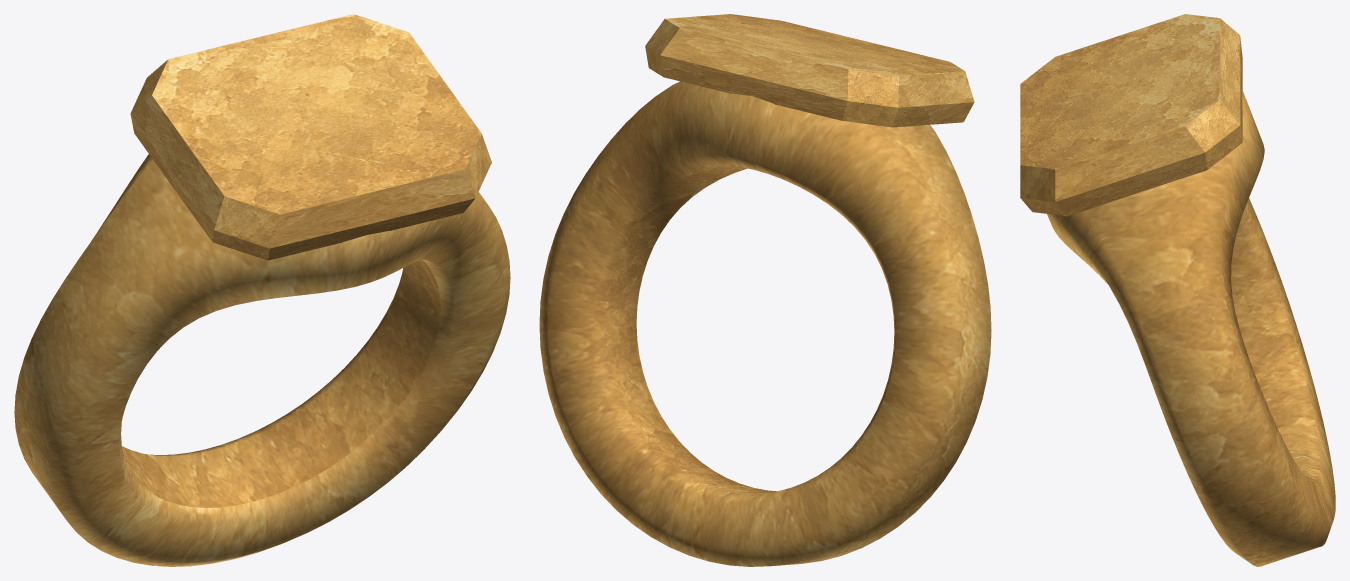
Rendered from untarnished_signet.obj.
3 views of the same model, side by side, from view 1: azimuth 30°, elevation 25°; view 2: azimuth 150°, elevation 25°; view 3: azimuth 270°, elevation 25° (orthographic). The views are drawn at different scales.
Visible parts, largest first — view 1: A_ClosedDSectionBandAndShoulders.001_untarnished_signet_gold, B_UnmarkedOctagonalSealWithBeveledEdges.001_untarnished_signet_s, B_UnmarkedOctagonalSealWithBeveledEdges.001_untarnished_signet_g; view 2: A_ClosedDSectionBandAndShoulders.001_untarnished_signet_gold, B_UnmarkedOctagonalSealWithBeveledEdges.001_untarnished_signet_g, B_UnmarkedOctagonalSealWithBeveledEdges.001_untarnished_signet_s; view 3: A_ClosedDSectionBandAndShoulders.001_untarnished_signet_gold, B_UnmarkedOctagonalSealWithBeveledEdges.001_untarnished_signet_s, B_UnmarkedOctagonalSealWithBeveledEdges.001_untarnished_signet_g.
Part boxes in pixels (bbox=[...]): A_ClosedDSectionBandAndShoulders.001_untarnished_signet_gold: bbox=[14, 154, 510, 566]; B_UnmarkedOctagonalSealWithBeveledEdges.001_untarnished_signet_s: bbox=[152, 14, 481, 214]; B_UnmarkedOctagonalSealWithBeveledEdges.001_untarnished_signet_g: bbox=[130, 60, 491, 260]; A_ClosedDSectionBandAndShoulders.001_untarnished_signet_gold: bbox=[539, 81, 991, 566]; B_UnmarkedOctagonalSealWithBeveledEdges.001_untarnished_signet_g: bbox=[645, 19, 974, 127]; B_UnmarkedOctagonalSealWithBeveledEdges.001_untarnished_signet_s: bbox=[665, 14, 964, 75]; A_ClosedDSectionBandAndShoulders.001_untarnished_signet_gold: bbox=[1047, 90, 1335, 566]; B_UnmarkedOctagonalSealWithBeveledEdges.001_untarnished_signet_s: bbox=[1020, 14, 1220, 169]; B_UnmarkedOctagonalSealWithBeveledEdges.001_untarnished_signet_g: bbox=[1020, 18, 1242, 216].
Bounding box in the file's own units: 1.76 × 2.01 × 1.19.
Materials: 2 (2 with a texture image).
